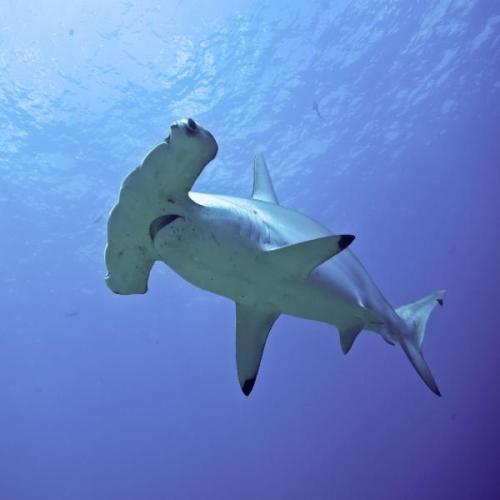shark-endangered: (105, 117, 448, 406)
